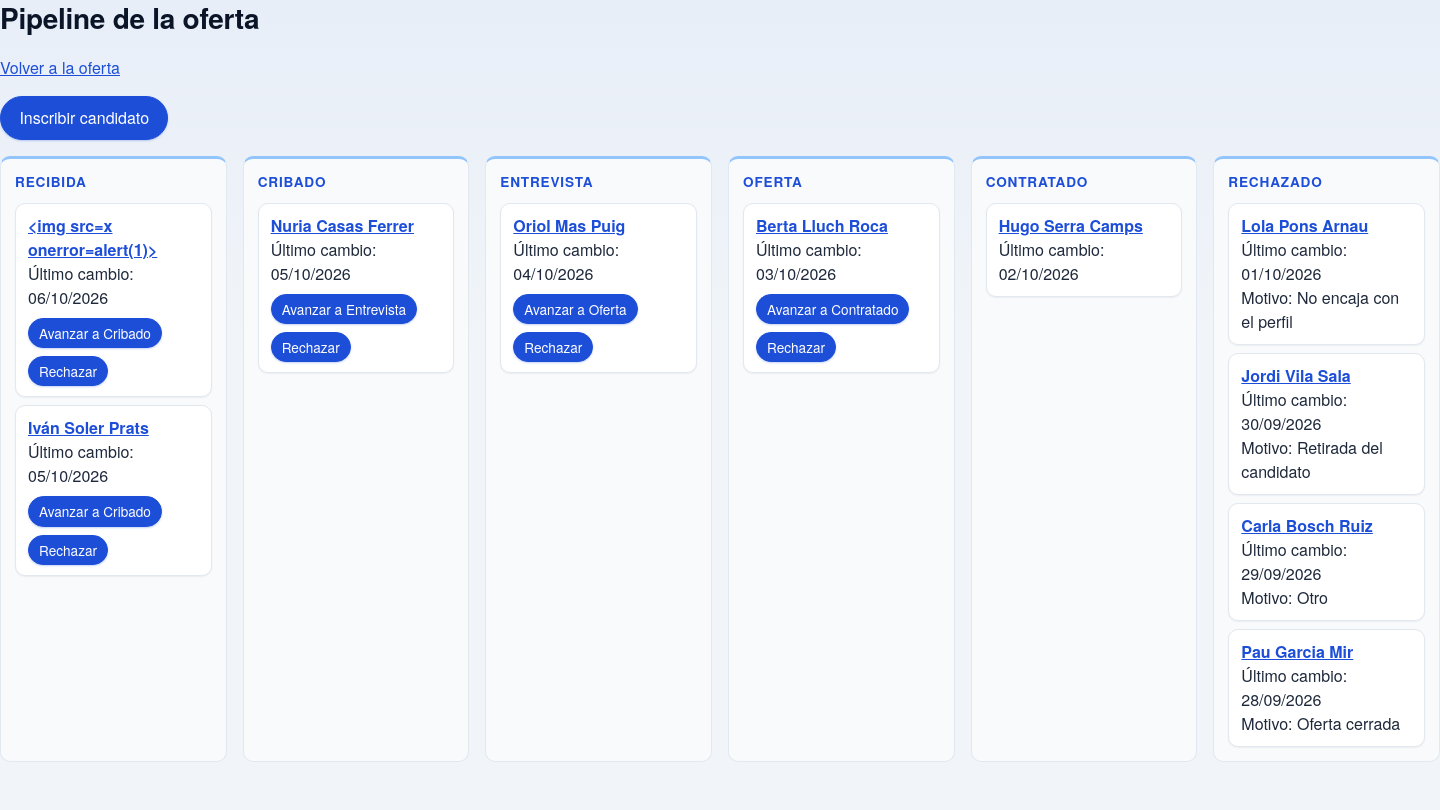
Test: PipelineScreen: cambios de etapa frente a hostiles y dobles envíos › EC-34 nombre con HTML en el enlace y en los nombres accesibles: texto, ningún img
Click the button "Rechazar" below "<img src=x onerror=alert(1)>" at (68, 371), box [28,356,108,386]
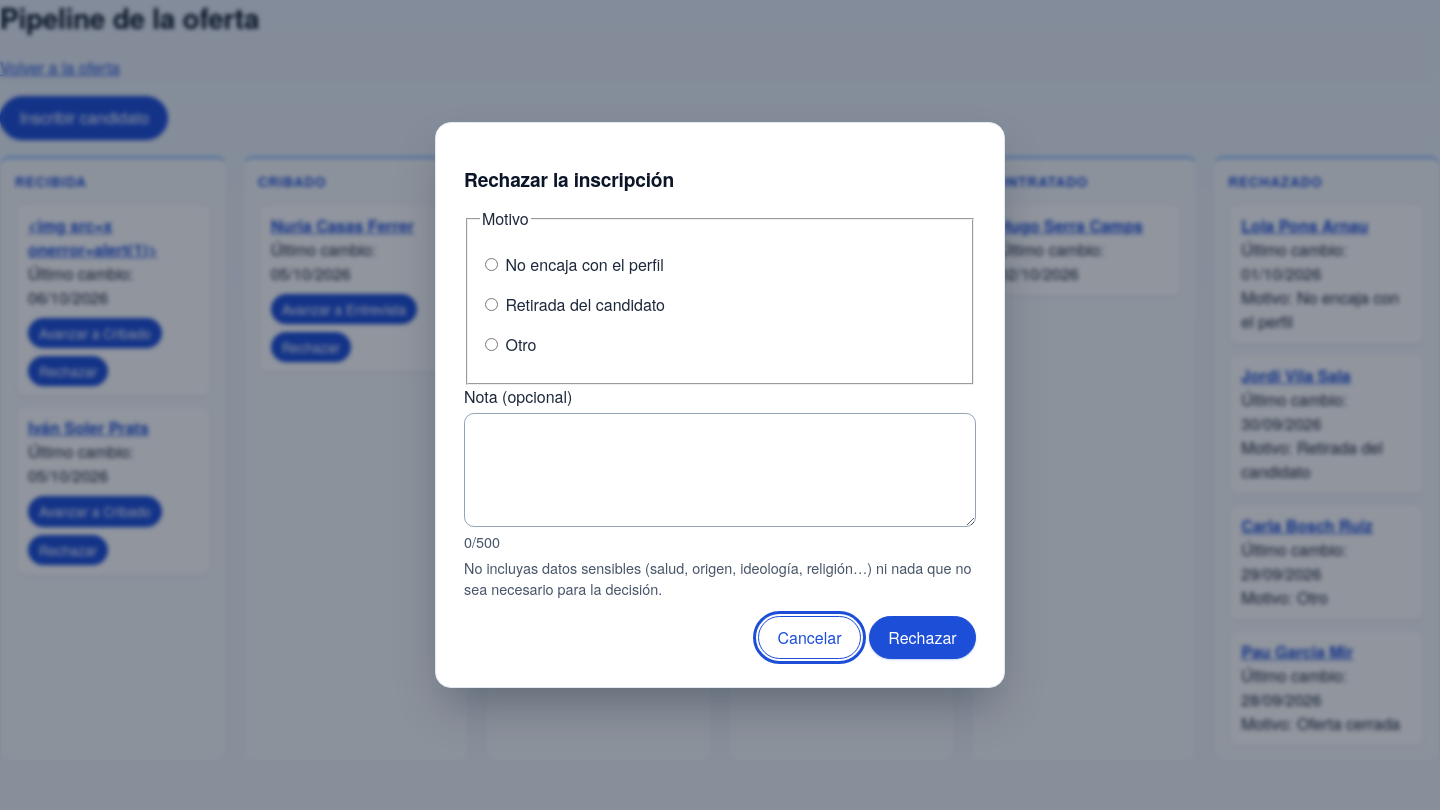
Result: the dialog "Rechazar la inscripción" is shown at [435,122,1005,688]
